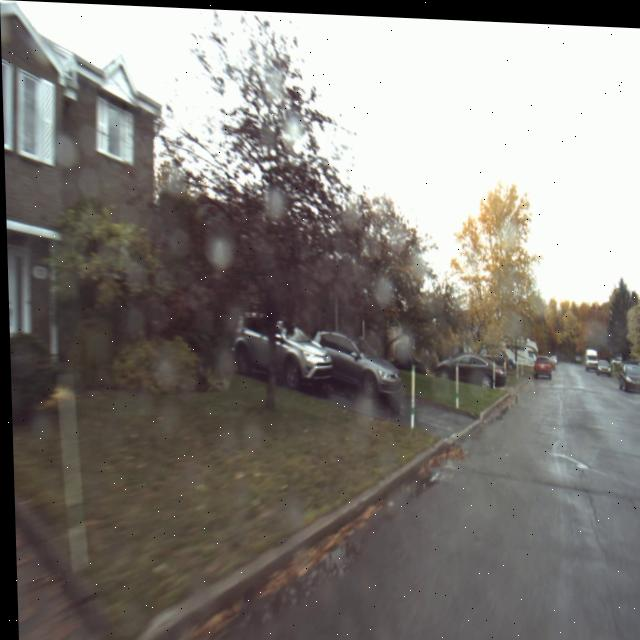car: (306, 319, 409, 397)
